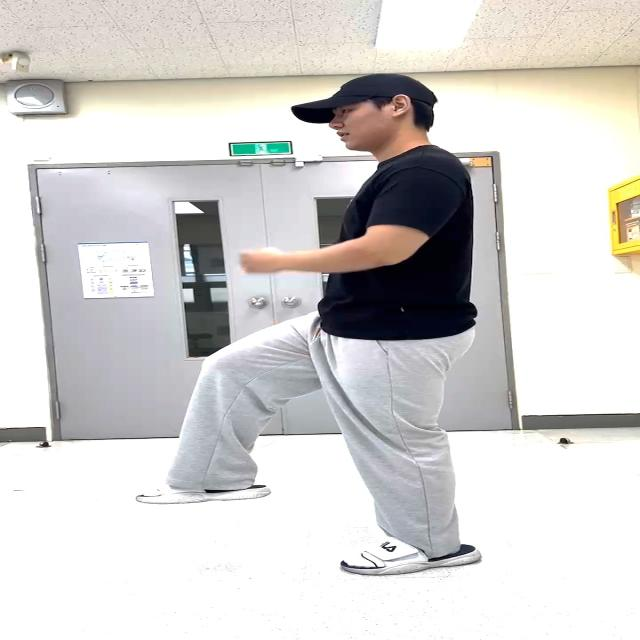leg: (177, 320, 329, 492)
